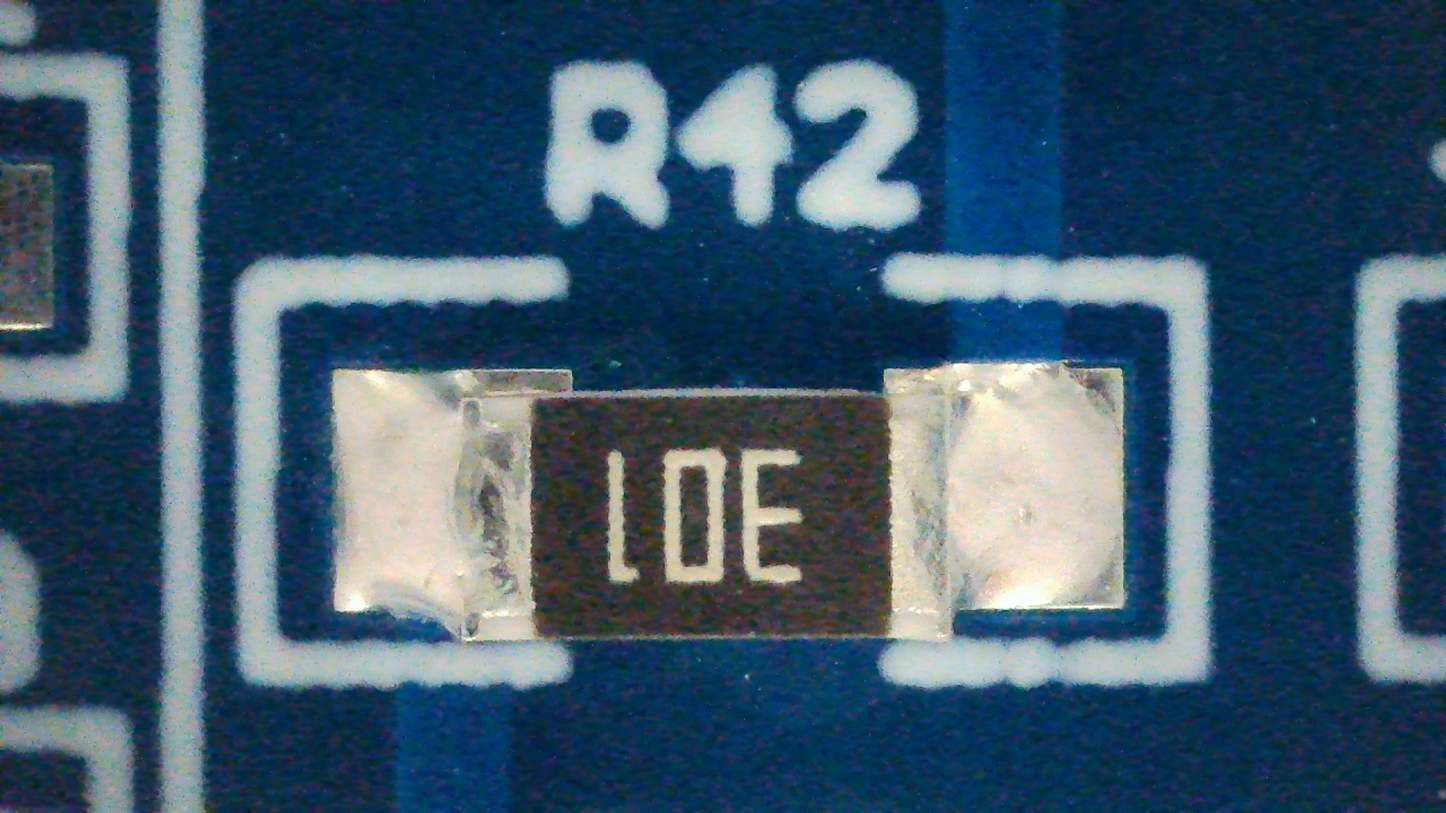NG: (334, 362, 1125, 640)
